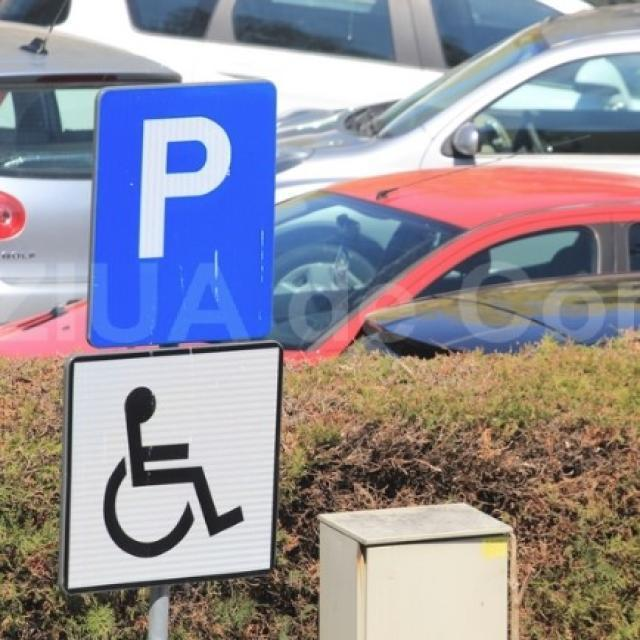symbol_of_access: (58, 339, 279, 596)
